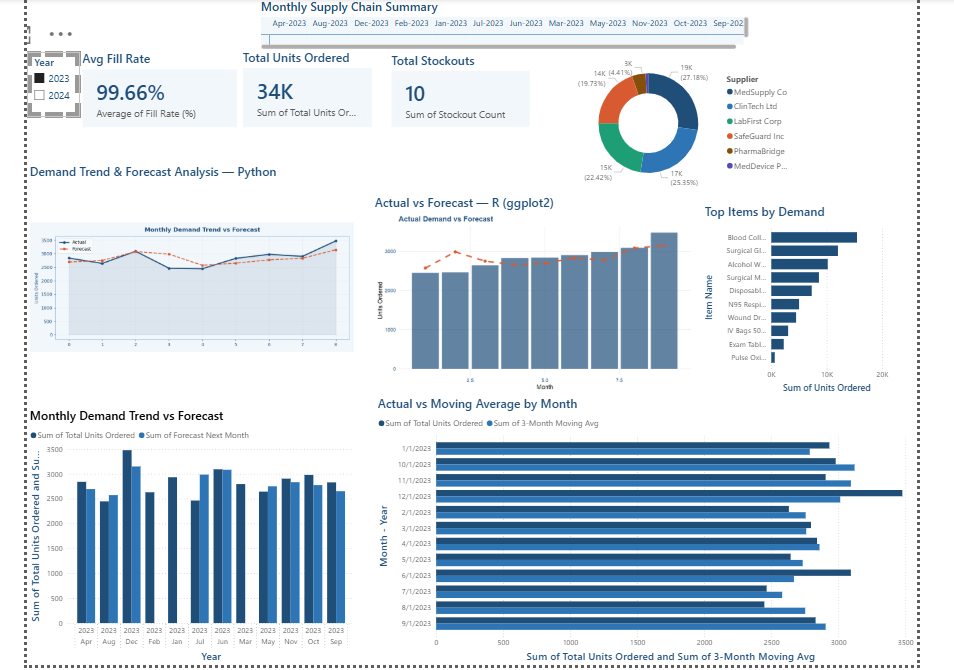

What the dashboard file says about the page in this screenshot:
{"tool":"powerbi","page":{"name":"Page 1","canvas":[1600,1200],"ordinal":0},"visuals":[{"type":"clusteredColumnChart","title":"Monthly Demand Trend vs Forecast","fields":{"Y":["Sum(Forecast Data.Total Units Ordered)","Sum(Forecast Data.Forecast Next Month)"],"Category":["Forecast Data.Month","Forecast Data.Year"]},"box":[0,736.7,593.7,464.2],"z":0},{"type":"clusteredBarChart","title":"Actual vs Moving Average by Month","fields":{"Category":["Forecast Prep.Month - Year.Variation.Date Hierarchy.Year"],"Y":["Sum(Forecast Prep.Total Units Ordered)","Sum(Forecast Prep.3-Month Moving Avg)"]},"box":[626.1,715.2,974.2,485.8],"z":1000},{"type":"cardVisual","title":"Total Units Ordered","fields":{"Data":["Sum(Monthly Summary.Total Units Ordered)"]},"box":[383.2,91.8,242.9,145.7],"z":2000},{"type":"cardVisual","title":"Avg Fill Rate","fields":{"Data":["Avg(Monthly Summary.Fill Rate (%))"]},"box":[94.5,94.5,288.8,143],"z":3000},{"type":"cardVisual","title":"Total Stockouts","fields":{"Data":["Sum(Monthly Summary.Stockout Count)"]},"box":[650.4,97.2,259.1,140.3],"z":4000},{"type":"slicer","fields":{"Values":["Monthly Summary.Year"]},"box":[0,97.2,94.5,116],"z":5000},{"type":"donutChart","title":"Units Ordered by Supplier","fields":{"Category":["Supply Data.Supplier"],"Y":["Sum(Supply Data.Units Ordered)"]},"box":[971.5,48.6,412.9,323.8],"z":6000},{"type":"barChart","title":"Top Items by Demand","fields":{"Category":["Supply Data.Item Name"],"Y":["Sum(Supply Data.Units Ordered)"]},"box":[1214.4,369.7,340,345.4],"z":7000},{"type":"pivotTable","title":"Monthly Supply Chain Summary","fields":{"Columns":["Monthly Summary.Month-Year","Monthly Summary.Total Units Ordered","Monthly Summary.Total Units Received","Monthly Summary.Fill Rate (%)","Monthly Summary.Stockout Count"]},"box":[415.6,0,887.9,97.2],"z":8000},{"type":"pythonVisual","title":"Demand Trend & Forecast Analysis — Python","fields":{"Values":["Forecast Data.Month-Year.Variation.Date Hierarchy.Year","Forecast Data.Month-Year.Variation.Date Hierarchy.Quarter","Forecast Data.Month-Year.Variation.Date Hierarchy.Month","Forecast Data.Month-Year.Variation.Date Hierarchy.Day","Forecast Data.Total Units Ordered","Sum(Forecast Data.Forecast Next Month)"]},"box":[0,298.1,593.2,417.9],"z":9000},{"type":"scriptVisual","title":"Actual vs Forecast — R (ggplot2)","fields":{"Values":["Forecast Data.Total Units Ordered","Forecast Data.Month-Year.Variation.Date Hierarchy.Year","Forecast Data.Month-Year.Variation.Date Hierarchy.Quarter","Forecast Data.Month-Year.Variation.Date Hierarchy.Month","Forecast Data.Month-Year.Variation.Date Hierarchy.Day","Sum(Forecast Data.Forecast Next Month)"]},"box":[619.5,353.6,584.4,362.3],"z":10000}]}

Visuals, with their boxes on the page's 1600x1200 design canvas (x1, y1, x2, y2). These are canvas units, not pixel positions in the 954x670 screenshot, which may show the page scaled, cropped or inside an application window:
"Monthly Demand Trend vs Forecast" clusteredColumnChart: x1=0, y1=737, x2=594, y2=1201
"Actual vs Moving Average by Month" clusteredBarChart: x1=626, y1=715, x2=1600, y2=1201
"Total Units Ordered" cardVisual: x1=383, y1=92, x2=626, y2=238
"Avg Fill Rate" cardVisual: x1=94, y1=94, x2=383, y2=238
"Total Stockouts" cardVisual: x1=650, y1=97, x2=910, y2=238
slicer - Monthly Summary.Year: x1=0, y1=97, x2=94, y2=213
"Units Ordered by Supplier" donutChart: x1=972, y1=49, x2=1384, y2=372
"Top Items by Demand" barChart: x1=1214, y1=370, x2=1554, y2=715
"Monthly Supply Chain Summary" pivotTable: x1=416, y1=0, x2=1304, y2=97
"Demand Trend & Forecast Analysis — Python" pythonVisual: x1=0, y1=298, x2=593, y2=716
"Actual vs Forecast — R (ggplot2)" scriptVisual: x1=620, y1=354, x2=1204, y2=716
